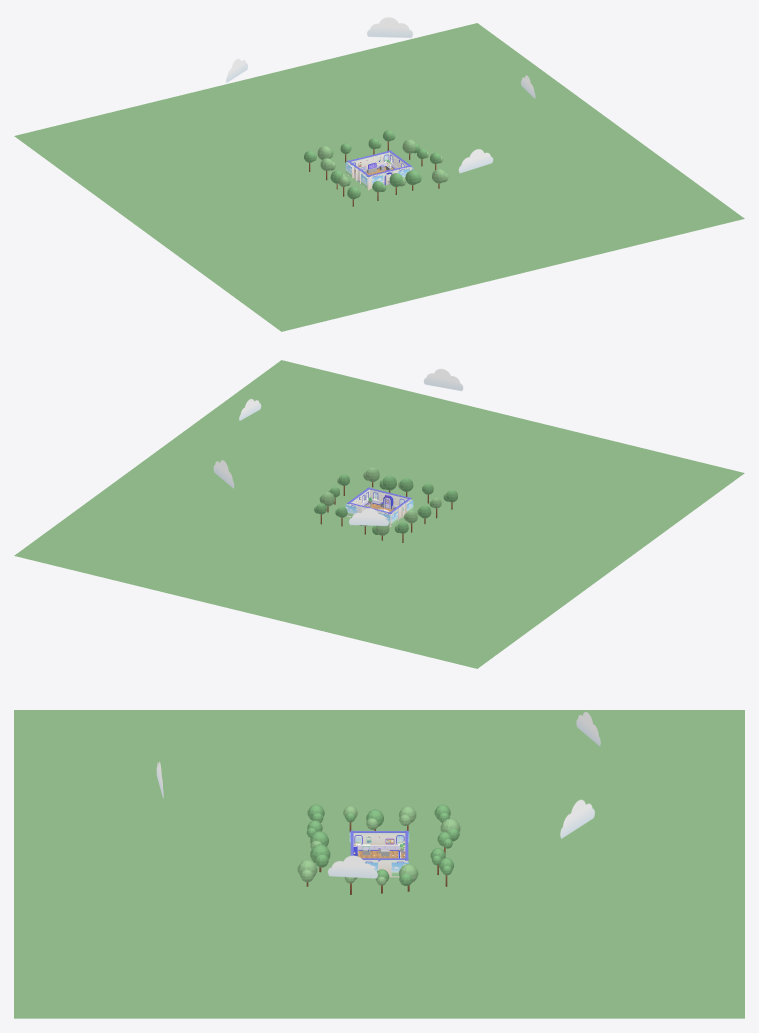
The model's file is counsel.glb.
The picture shows the model from 3 angles, top to bottom: view 1: azimuth 30°, elevation 25°; view 2: azimuth 150°, elevation 25°; view 3: azimuth 270°, elevation 25°; orthographic projection. The views are drawn at different scales.
Visible parts, largest first — view 1: backdrop__lawn, backdrop__trees, backdrop__clouds, counsel_static; view 2: backdrop__lawn, backdrop__trees, backdrop__clouds, counsel_static; view 3: backdrop__lawn, backdrop__trees, backdrop__clouds, counsel_static.
Part boxes in pixels (x1,y1,x2,y2): backdrop__lawn: [14, 23, 744, 331]; backdrop__trees: [304, 130, 448, 206]; backdrop__clouds: [226, 17, 535, 173]; counsel_static: [347, 150, 411, 190]; backdrop__lawn: [14, 360, 744, 668]; backdrop__trees: [314, 467, 457, 542]; backdrop__clouds: [213, 369, 463, 525]; counsel_static: [347, 487, 411, 527]; backdrop__lawn: [14, 710, 744, 1018]; backdrop__trees: [297, 804, 460, 894]; backdrop__clouds: [156, 711, 600, 878]; counsel_static: [350, 830, 408, 877].
Bounding box in the file's own units: 140 × 26.25 × 140.
Materials: 9 (8 with a texture image).
